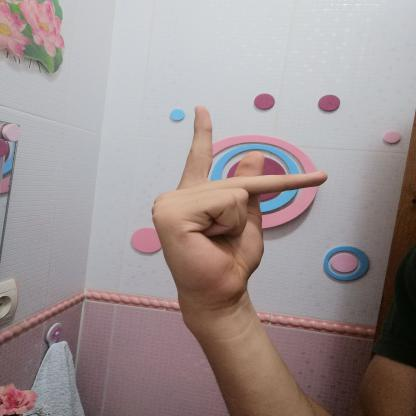DHAA: (141, 94, 342, 315)
